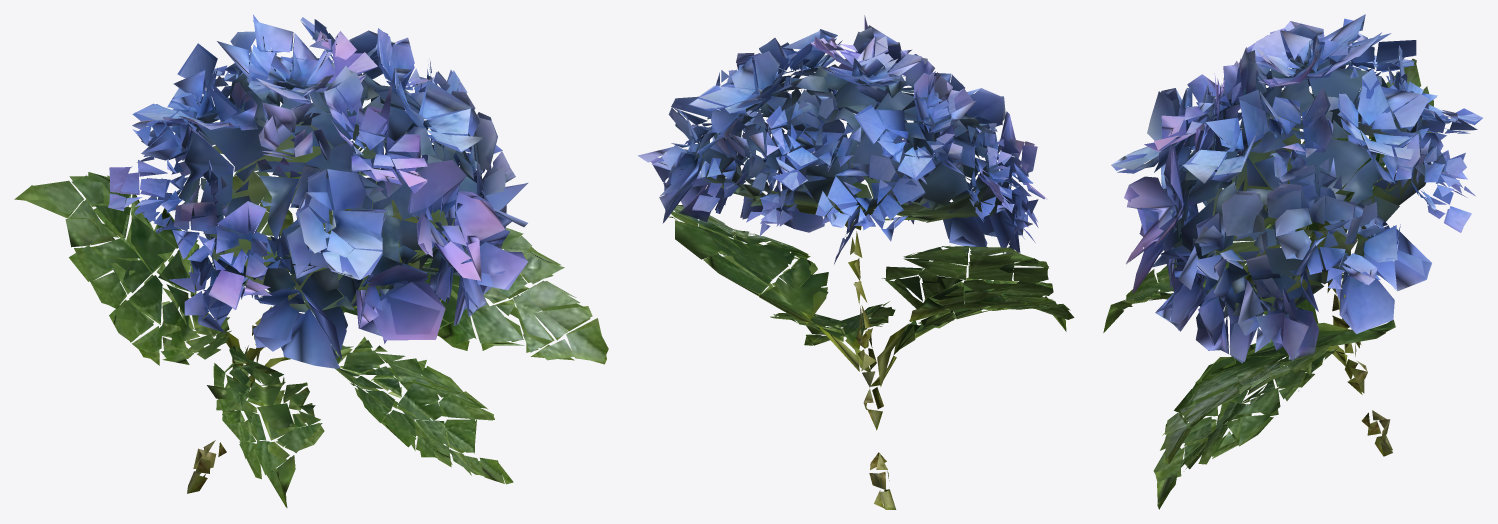
Rendered from hydrangea.glb.
3 renders of one model, left to right at view 1: azimuth 30°, elevation 25°; view 2: azimuth 150°, elevation 25°; view 3: azimuth 270°, elevation 25°, orthographic. The views are drawn at different scales.
Visible parts, largest first — view 1: HydrangeaFar; view 2: HydrangeaFar; view 3: HydrangeaFar.
Boxes of the visible parts, x1,y1,x2,y2 form: HydrangeaFar: [14, 14, 608, 507]; HydrangeaFar: [638, 15, 1074, 509]; HydrangeaFar: [1103, 14, 1482, 509].
Bounding box in the file's own units: 0.969 × 0.9114 × 0.6905.
1 material, 1 textured.
